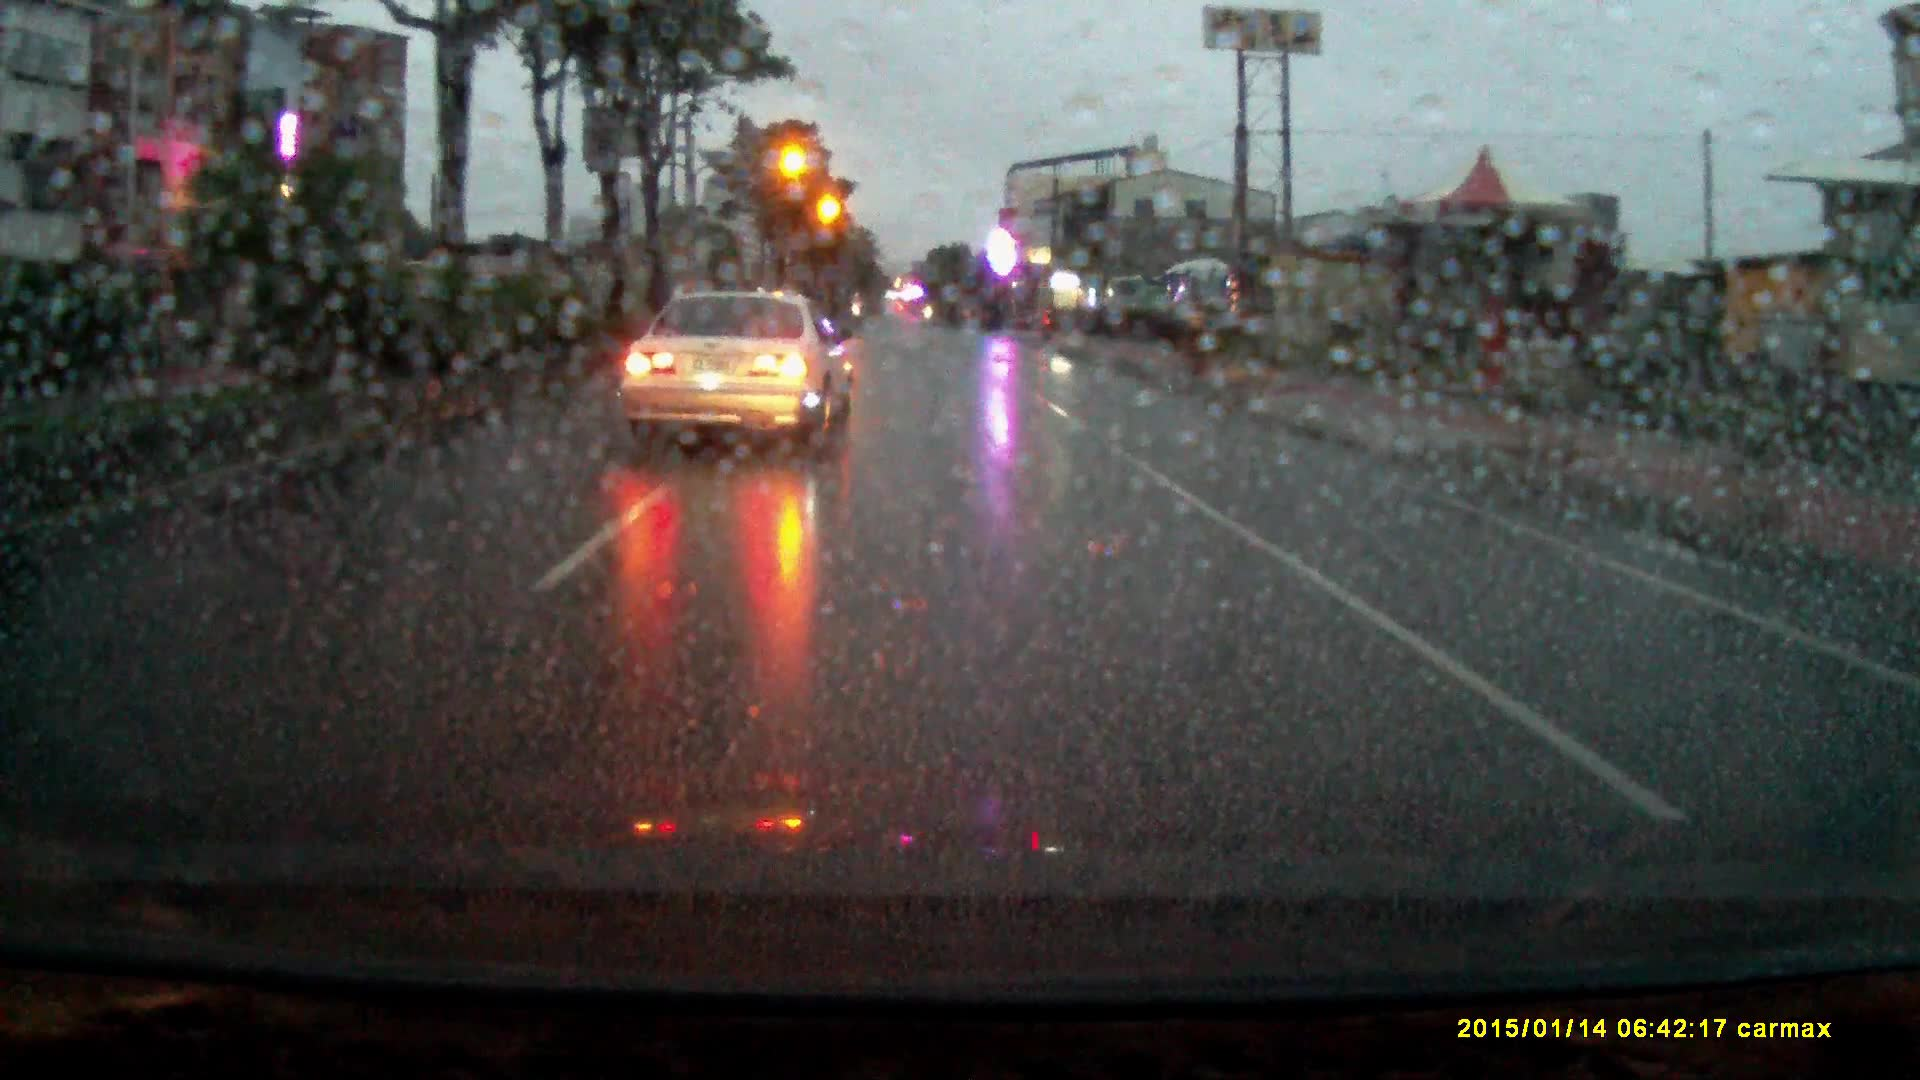vehicle: (616, 287, 861, 456), (1166, 261, 1241, 342), (1104, 276, 1153, 328)
